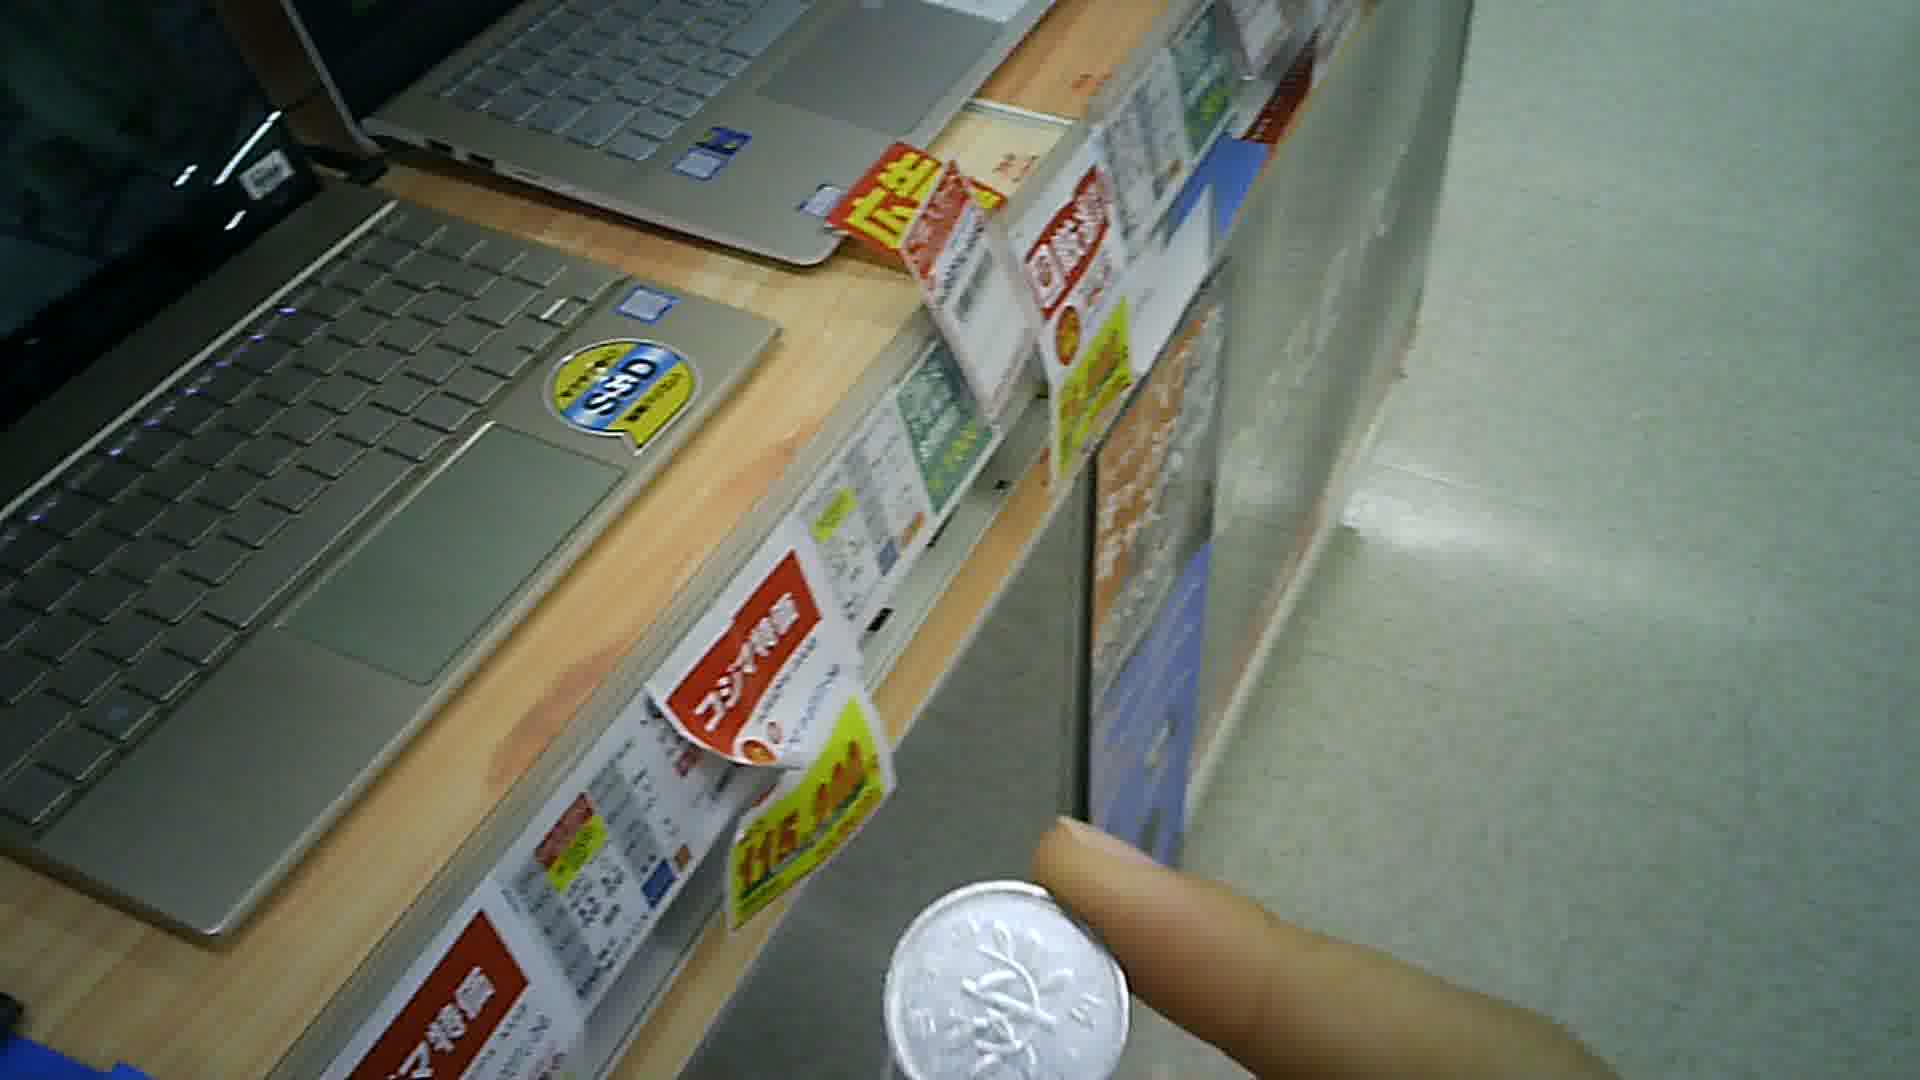1 Yen: (880, 878, 1130, 1077)
